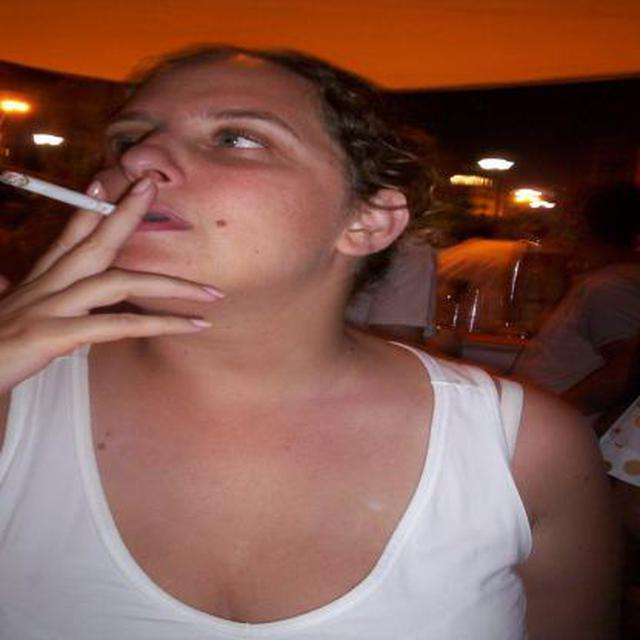smoking: (0, 171, 132, 220)
